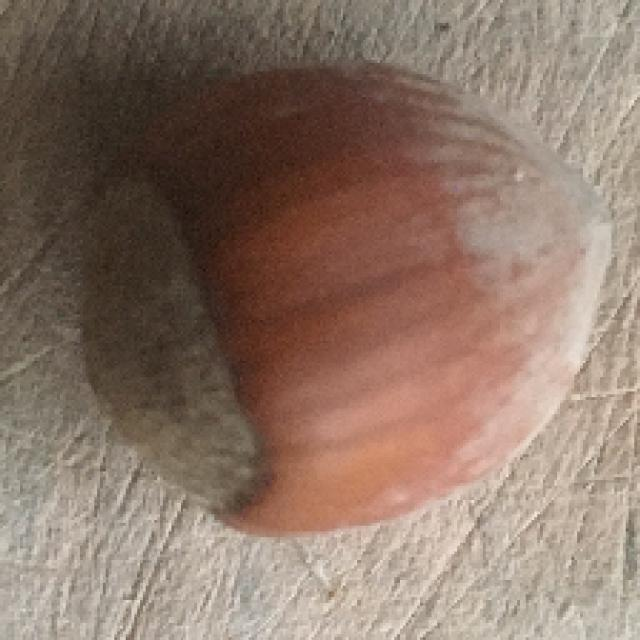qualityHazelnut: (68, 64, 613, 540)
